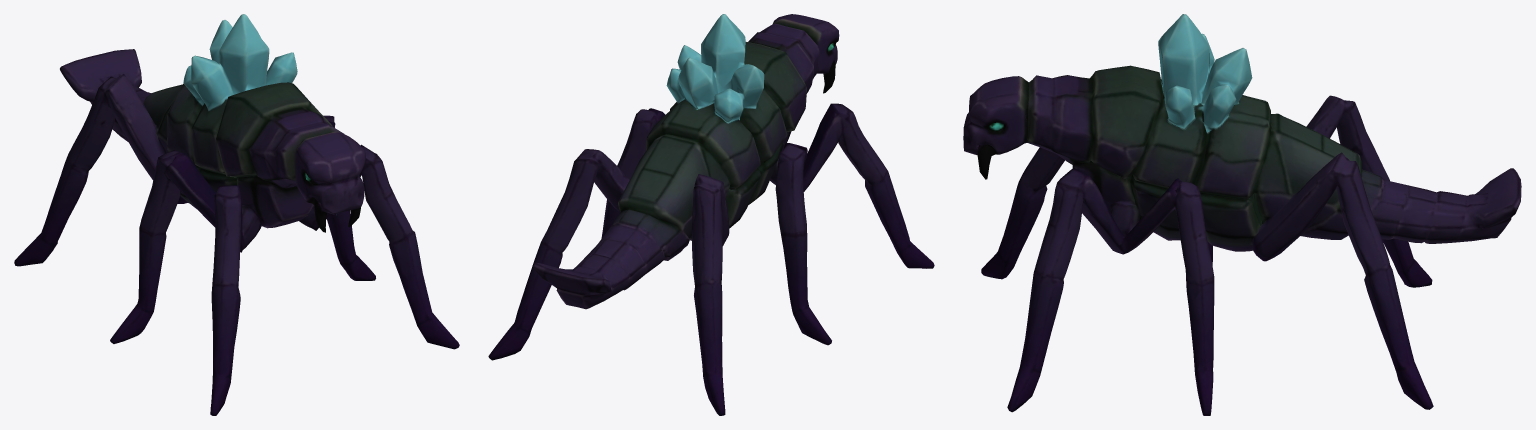
The model's file is crystal-stalker.glb.
3 renders of one model, left to right at view 1: azimuth 30°, elevation 25°; view 2: azimuth 150°, elevation 25°; view 3: azimuth 270°, elevation 25°, orthographic. The views are drawn at different scales.
Visible parts, largest first — view 1: world; view 2: world; view 3: world.
Boxes of the visible parts, x1=… form: world: x1=14, y1=14, x2=459, y2=415; world: x1=488, y1=14, x2=934, y2=415; world: x1=963, y1=14, x2=1521, y2=415.
Bounding box in the file's own units: 0.5962 × 0.6518 × 1.
Materials: 1 (1 with a texture image).
